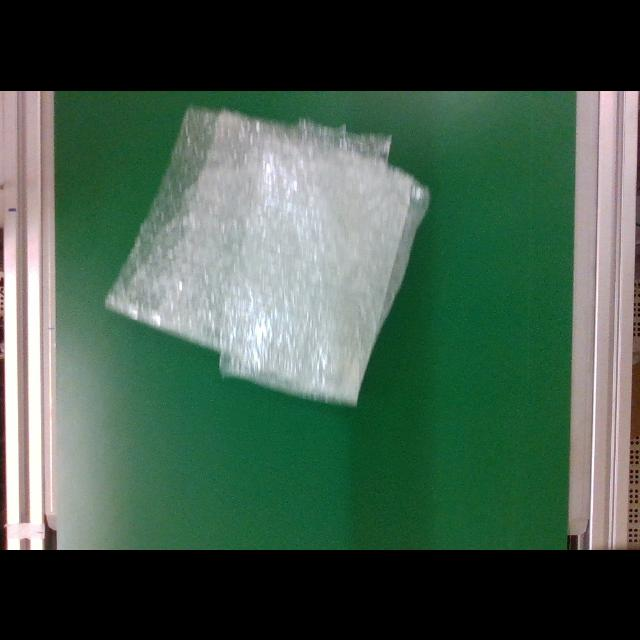scrap_plastic: (104, 103, 430, 409)
